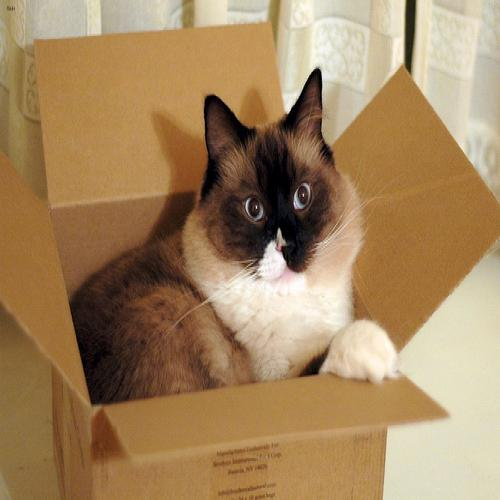ragdoll: (196, 73, 349, 301)
